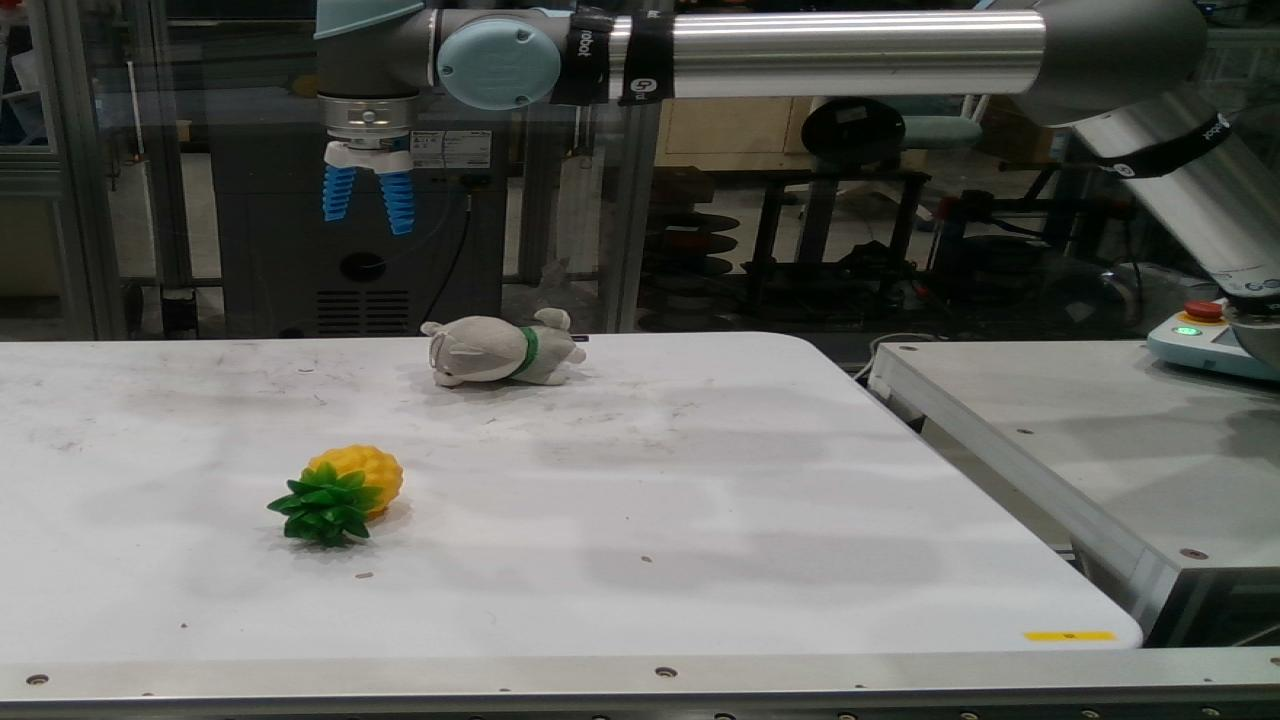UR5: (313, 0, 1279, 374)
gripper_left: (323, 164, 359, 219)
gripper_right: (379, 172, 414, 235)
target: (265, 444, 405, 547), (421, 308, 587, 388)
